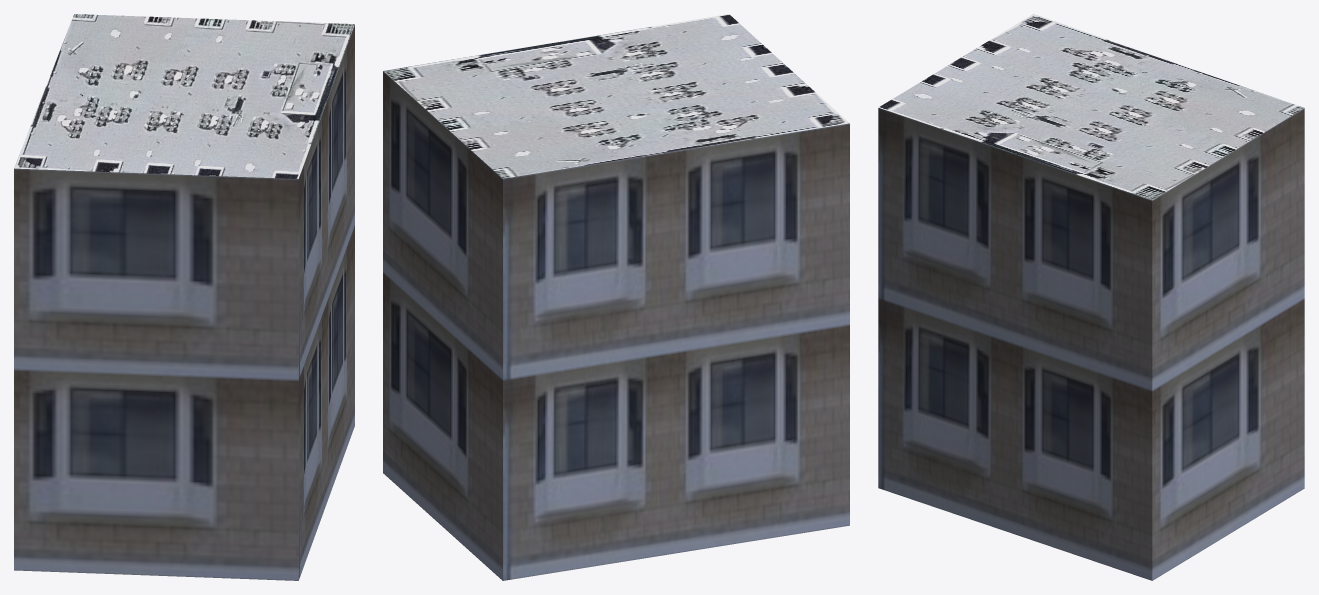
The model's file is ResTex__5119.fbx.
3 renders of one model, left to right at view 1: azimuth 30°, elevation 25°; view 2: azimuth 150°, elevation 25°; view 3: azimuth 270°, elevation 25°, orthographic. The views are drawn at different scales.
Visible parts, largest first — view 1: CityEngineMaterial_3_m, CityEngineMaterial_2_m; view 2: CityEngineMaterial_3_m, CityEngineMaterial_2_m; view 3: CityEngineMaterial_3_m, CityEngineMaterial_2_m.
Part boxes in pixels (x1,y1,x2,y2): CityEngineMaterial_3_m: [14, 24, 354, 580]; CityEngineMaterial_2_m: [14, 14, 354, 178]; CityEngineMaterial_3_m: [383, 71, 849, 580]; CityEngineMaterial_2_m: [383, 14, 849, 178]; CityEngineMaterial_3_m: [878, 108, 1304, 580]; CityEngineMaterial_2_m: [878, 14, 1303, 200].
Size of the model in its own units: 6.31 by 6 by 6.1.
Materials: 2 (2 with a texture image).
